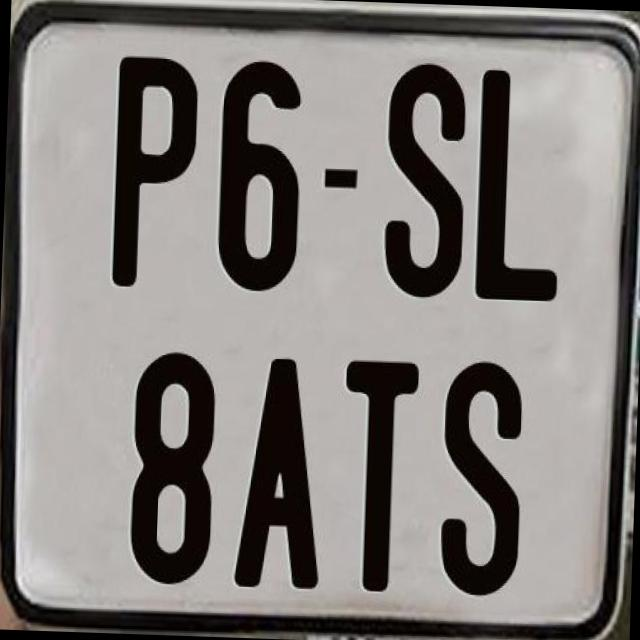6: (216, 59, 306, 297)
8: (125, 349, 216, 587)
A: (233, 354, 332, 590)
L: (472, 68, 568, 302)
P: (108, 53, 202, 295)
S: (436, 360, 530, 601), (382, 58, 468, 301)
T: (337, 354, 421, 591)
